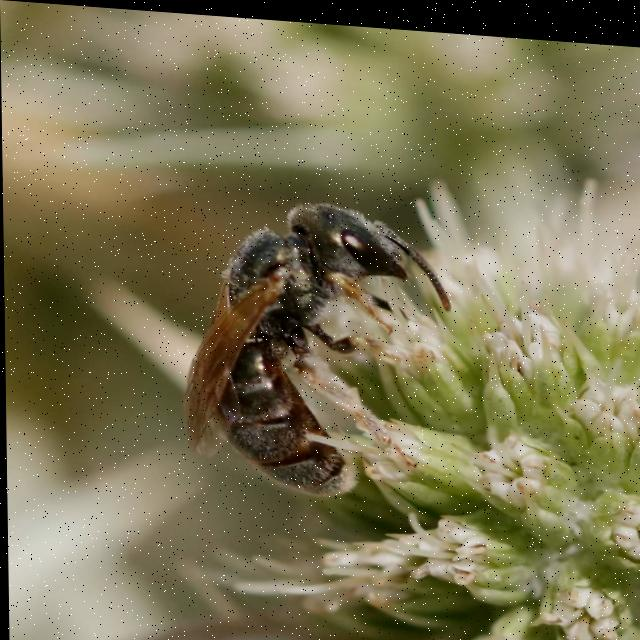Seladonia: (172, 178, 458, 526)
